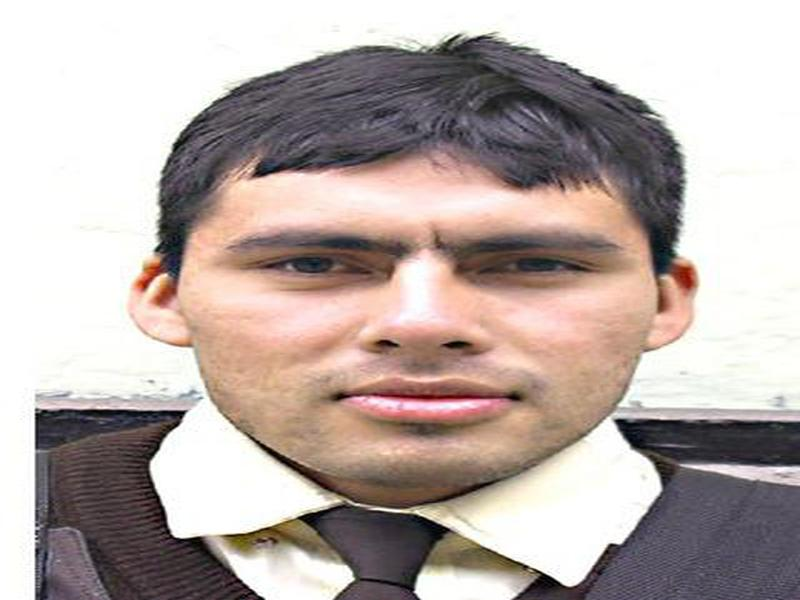without_mask: (179, 166, 651, 510)
